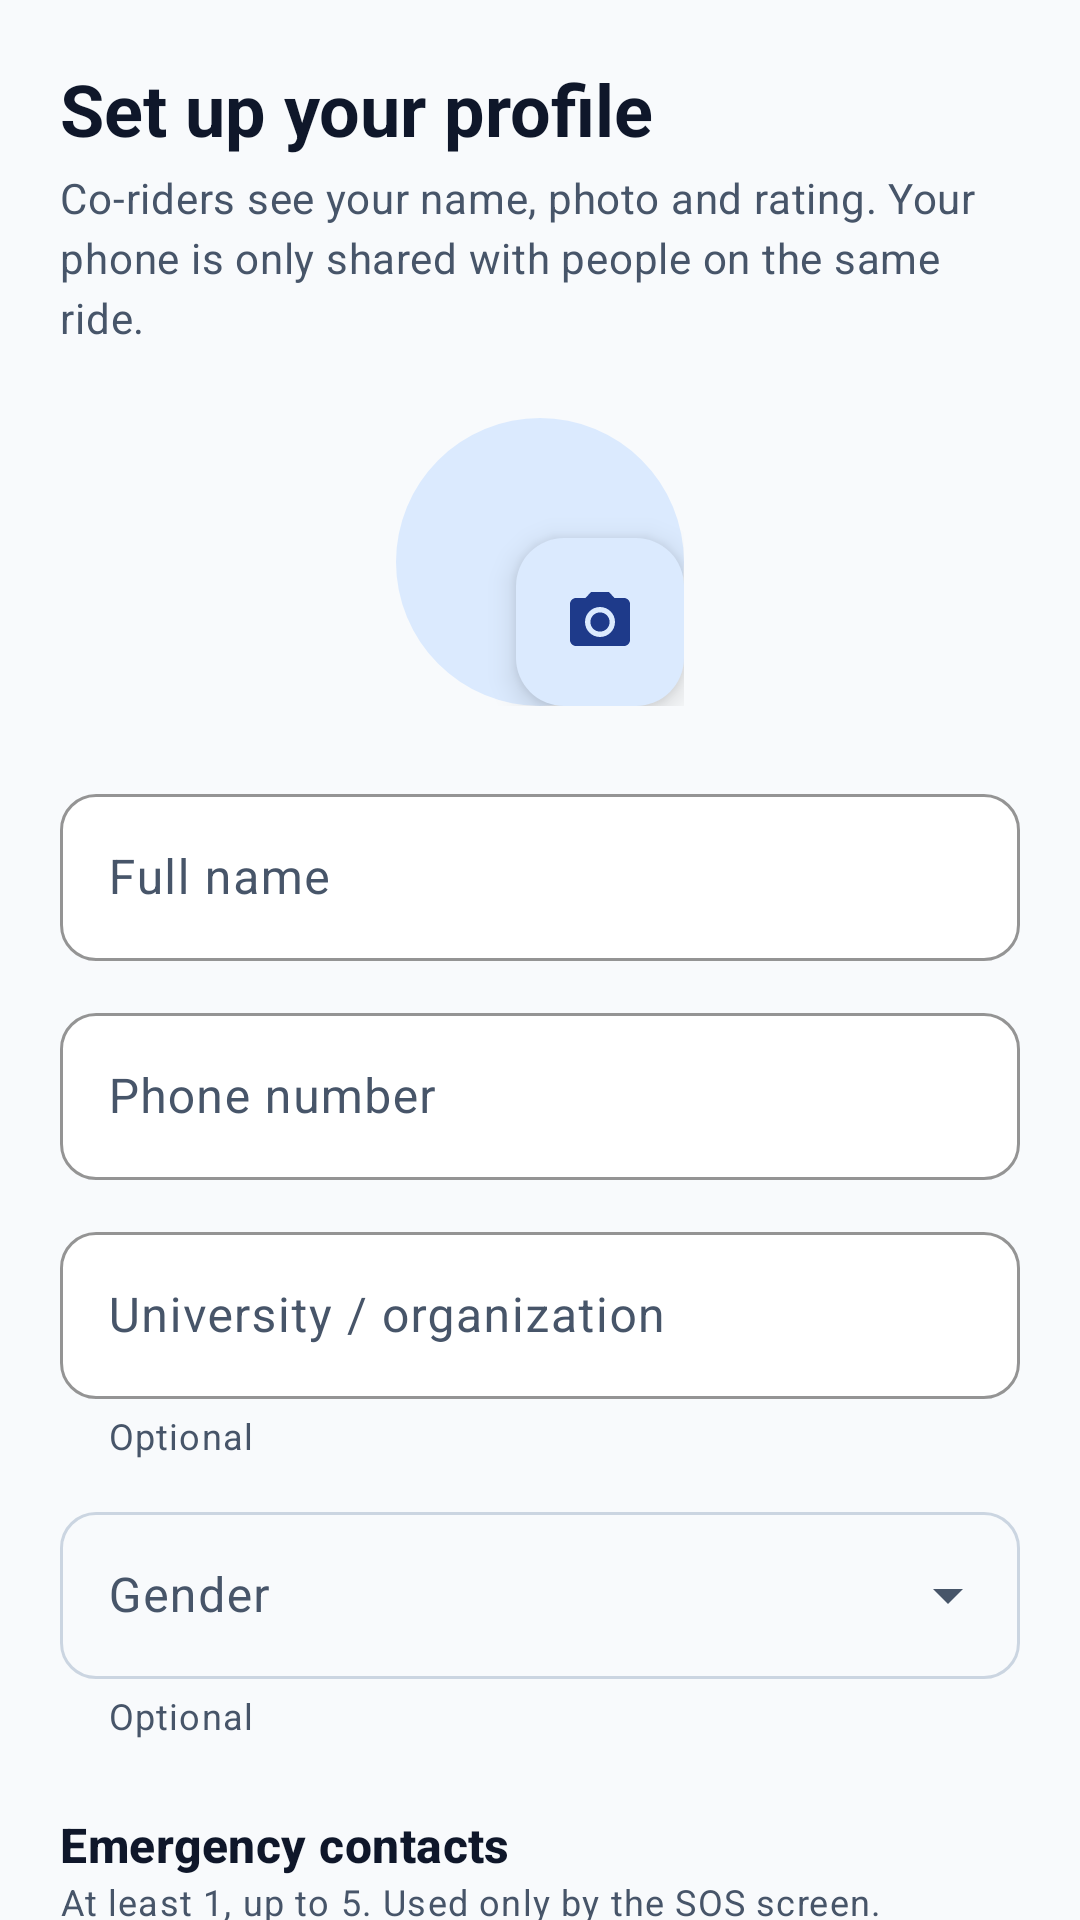

Where to tap for icons on this 1080px x 1920px app screen, as point (x, y):
Change photo: point (600, 622)
